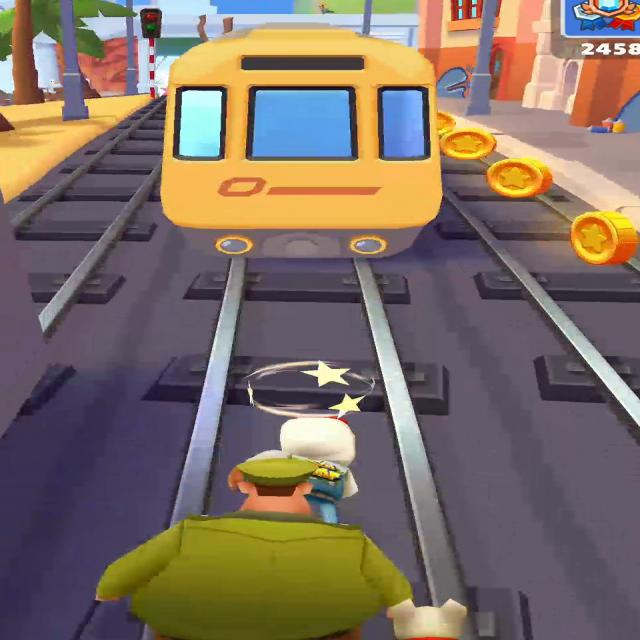police: (96, 457, 412, 640)
train: (160, 23, 442, 258)
